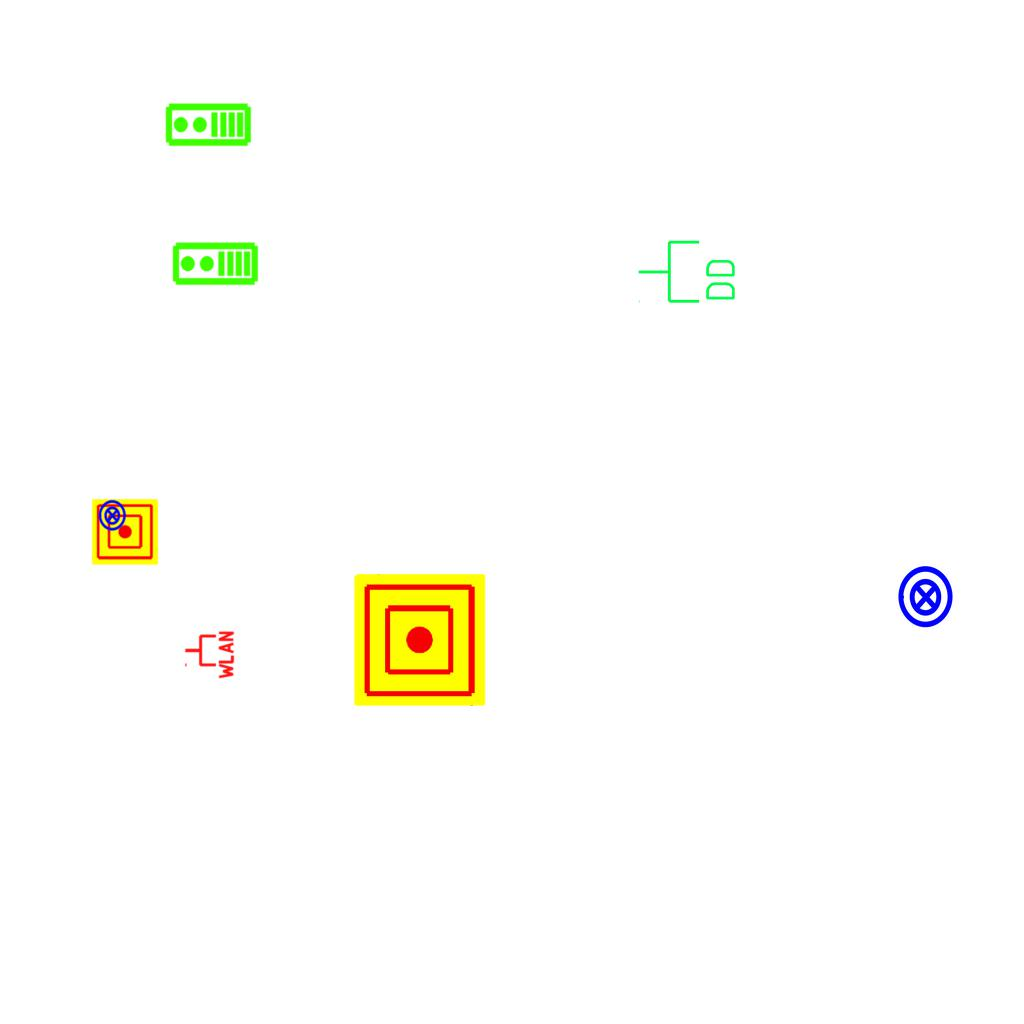Datenanschluss_zweifach: (636, 238, 739, 307)
Gegensprechanlage_mit_Video: (171, 241, 259, 288), (164, 102, 252, 149)
NAM-Nichtautomatischer_Melder: (354, 574, 486, 706), (92, 499, 158, 565)
Taster_beleuchtet: (893, 564, 959, 630), (96, 499, 129, 532)
WLAN: (183, 629, 235, 681)
